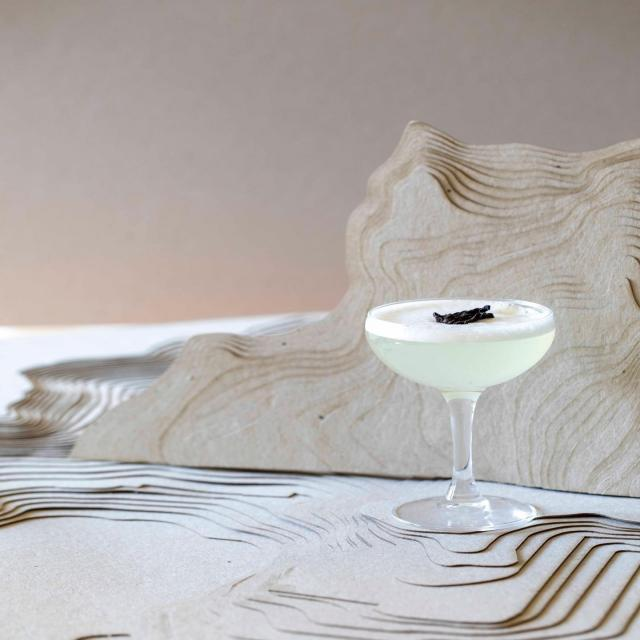glass-wine: (359, 296, 561, 536)
